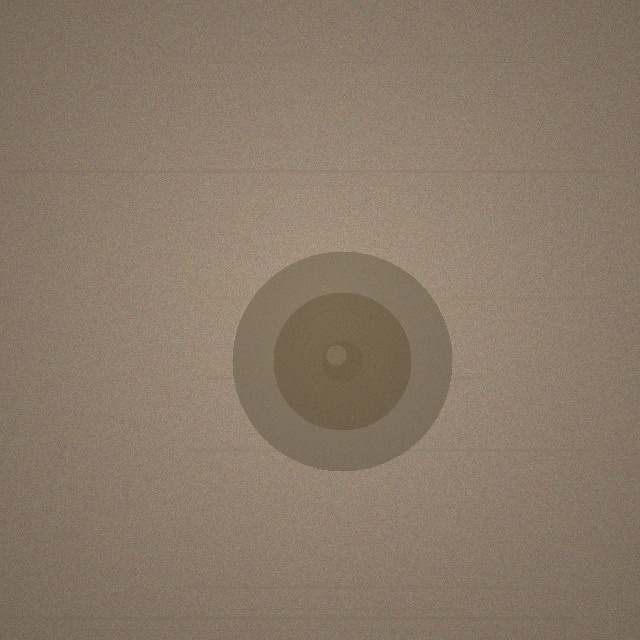good: (232, 251, 452, 471)
